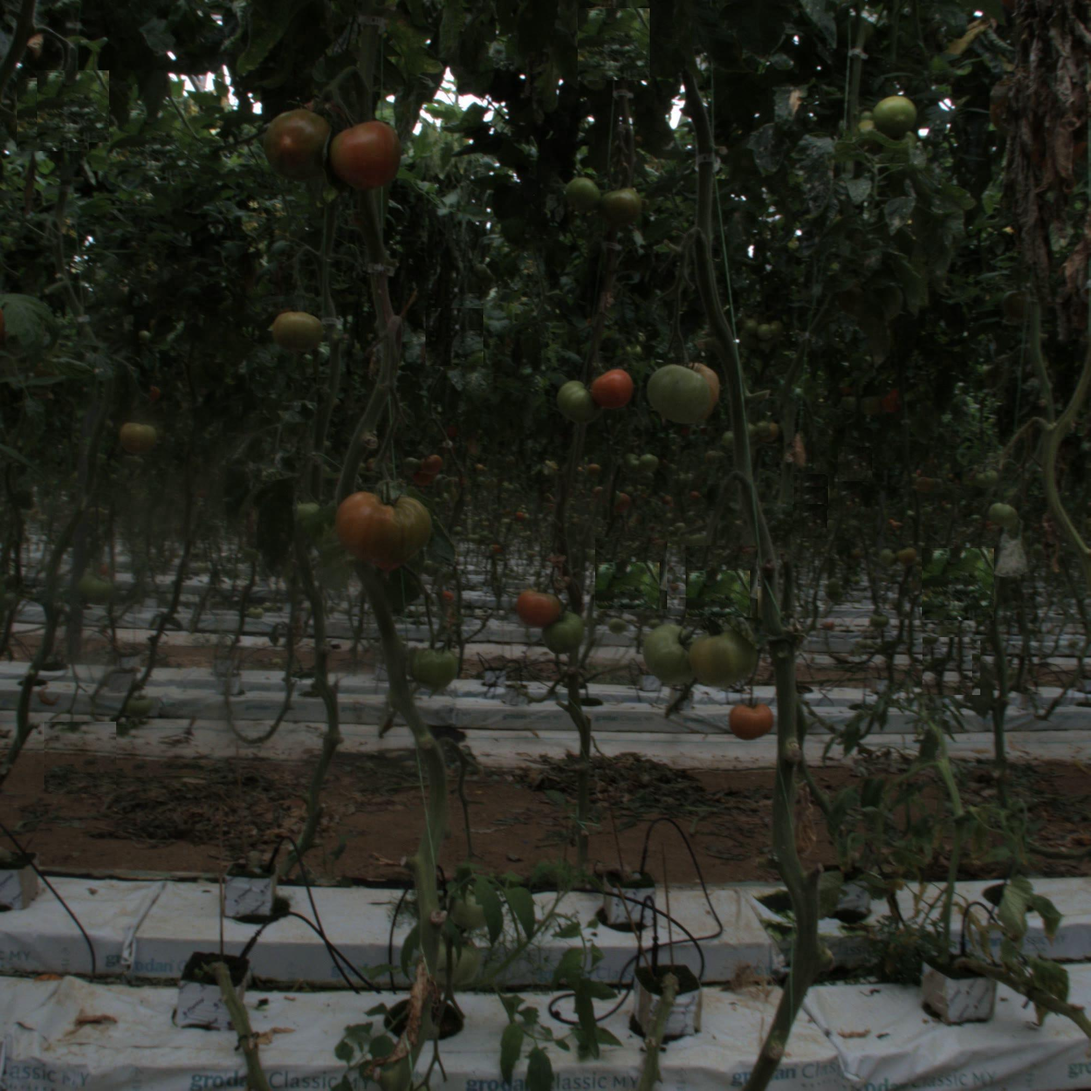['unripe', 'semi-ripe', 'fully-ripe']: (646, 363, 715, 431), (644, 620, 708, 684), (686, 623, 750, 687), (555, 379, 601, 425), (645, 207, 690, 252), (411, 642, 456, 687), (872, 94, 916, 139), (544, 612, 583, 651), (120, 421, 156, 457), (606, 189, 640, 224), (564, 175, 598, 209)
